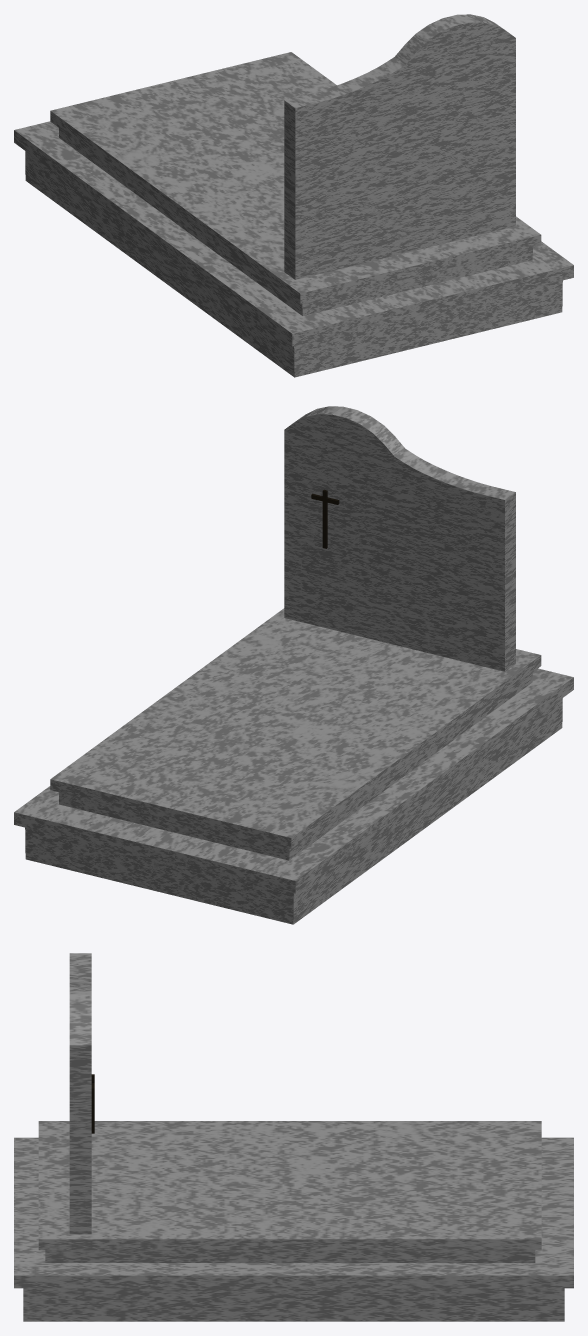
File: tombe.obj
3 views of the same model, one above another, from view 1: azimuth 30°, elevation 25°; view 2: azimuth 150°, elevation 25°; view 3: azimuth 270°, elevation 25° (orthographic).
Parts seen in each view (by area): view 1: cube; view 2: cube; view 3: cube.
Part boxes in pixels (x1=…): cube: x1=14, y1=14, x2=573, y2=377; cube: x1=14, y1=406, x2=573, y2=924; cube: x1=14, y1=953, x2=573, y2=1321.
Size of the model in its own units: 1.24 by 1.22 by 2.12.
2 materials, 2 textured.
